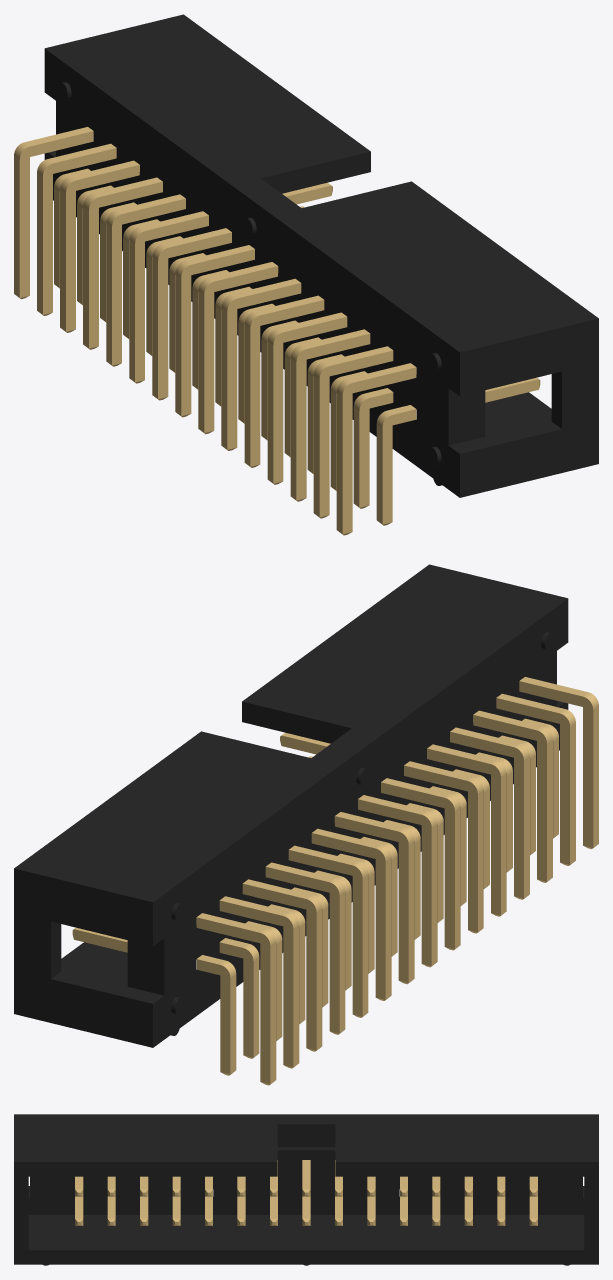
Rendered from kc-idc-header_2x15_p2.54mm_horizontal.glb.
The picture shows the model from 3 angles, top to bottom: view 1: azimuth 30°, elevation 25°; view 2: azimuth 150°, elevation 25°; view 3: azimuth 270°, elevation 25°; orthographic projection. The views are drawn at different scales.
Parts seen in each view (by area): view 1: 0_0_0_0, 0.75_0.5_0.25_0.9; view 2: 0_0_0_0, 0.75_0.5_0.25_0.9; view 3: 0_0_0_0, 0.75_0.5_0.25_0.9.
Boxes of the visible parts, x1,y1,x2,y2 form: 0_0_0_0: [44, 14, 598, 497]; 0.75_0.5_0.25_0.9: [14, 127, 540, 535]; 0_0_0_0: [14, 564, 568, 1047]; 0.75_0.5_0.25_0.9: [72, 677, 598, 1085]; 0_0_0_0: [14, 1114, 598, 1265]; 0.75_0.5_0.25_0.9: [75, 1160, 537, 1225].
Size of the model in its own units: 1.36 by 1.21 by 4.58.
